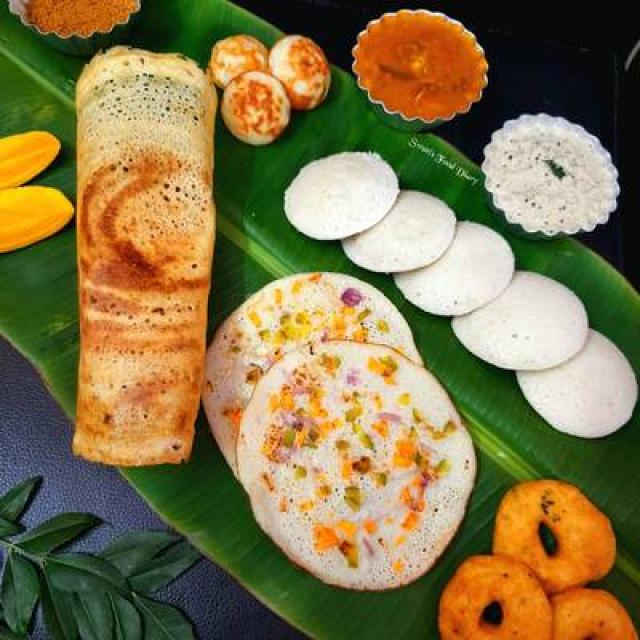DOSA: (74, 46, 214, 464)
IDLI: (451, 270, 589, 370), (517, 330, 637, 437), (394, 222, 514, 315), (283, 152, 398, 238), (341, 190, 456, 270)
MEDU VADA: (493, 482, 614, 589), (440, 555, 550, 638), (552, 587, 637, 638)
